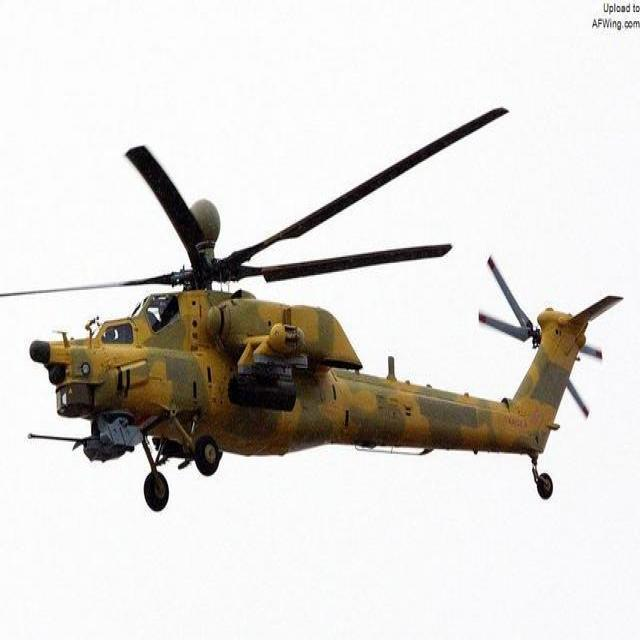MIL_HELO: (6, 101, 626, 518)
